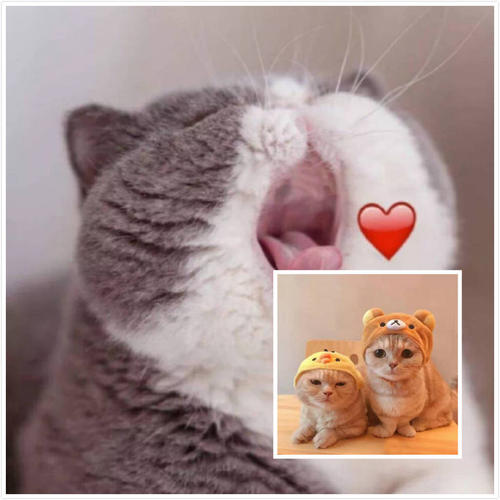cat: (66, 63, 470, 326), (290, 346, 356, 416), (365, 336, 430, 396)
